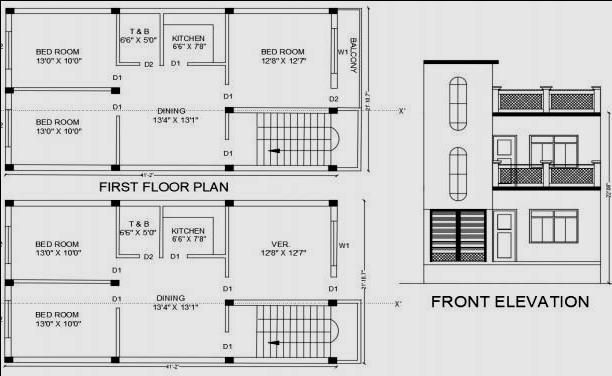Blueprint: (0, 2, 368, 178), (0, 194, 339, 368)
wall: (116, 353, 226, 364), (11, 197, 112, 208), (116, 198, 226, 208), (11, 354, 113, 364), (11, 84, 112, 94), (230, 296, 330, 306), (230, 198, 330, 208), (116, 162, 226, 171), (231, 354, 329, 364), (232, 162, 330, 172), (10, 275, 111, 284), (11, 162, 112, 171), (231, 105, 329, 114), (117, 6, 226, 14), (11, 6, 112, 14), (231, 6, 329, 14), (222, 201, 232, 279), (355, 296, 363, 364), (223, 11, 230, 85), (355, 104, 362, 173), (113, 202, 121, 260), (157, 196, 164, 260), (157, 5, 164, 67), (113, 304, 121, 358), (113, 11, 120, 66), (113, 113, 120, 166), (185, 251, 230, 259), (112, 250, 141, 260), (185, 60, 230, 66), (222, 302, 230, 334), (3, 204, 13, 228), (2, 66, 12, 90), (2, 334, 12, 357), (334, 356, 362, 364), (334, 165, 362, 173), (2, 11, 12, 33), (223, 110, 230, 141), (335, 297, 362, 305), (2, 144, 12, 165), (2, 91, 12, 112), (2, 282, 12, 302), (2, 260, 12, 280), (328, 204, 338, 224), (328, 70, 338, 90), (334, 105, 362, 112), (327, 262, 338, 278), (113, 60, 140, 66), (329, 12, 338, 30)
